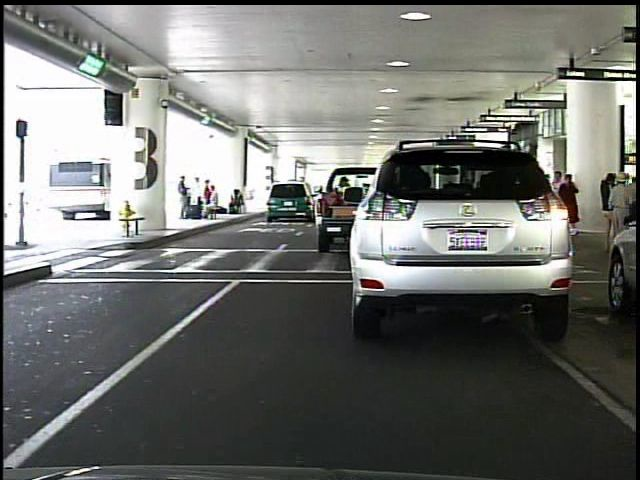person: (608, 170, 636, 255), (598, 165, 617, 251), (557, 170, 580, 239), (172, 172, 192, 224), (625, 174, 639, 232)
